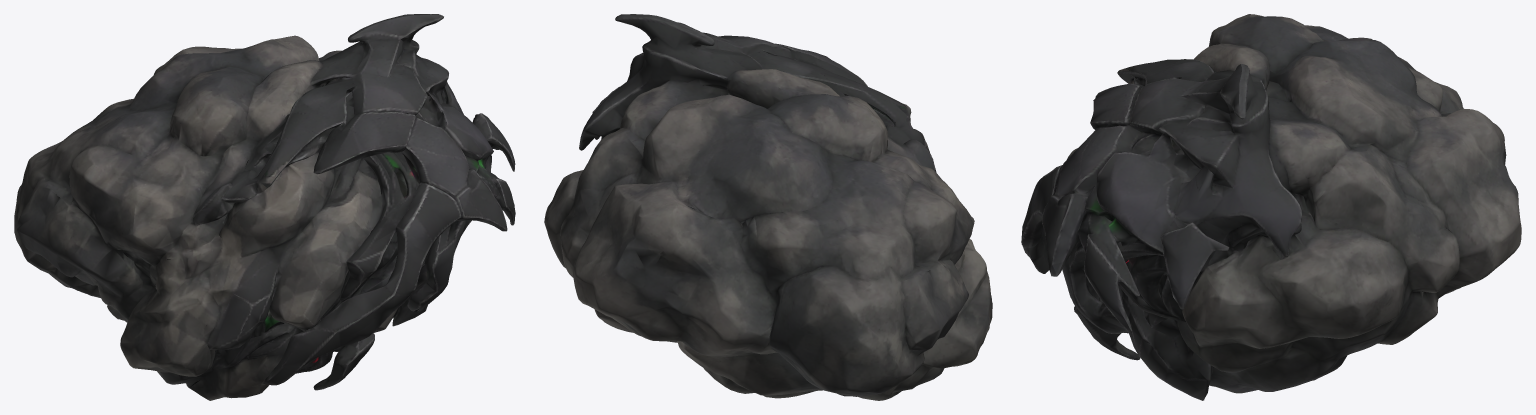
The model's file is 11_husk_claimed_asteroid.fbx.
3 views of the same model, side by side, from view 1: azimuth 30°, elevation 25°; view 2: azimuth 150°, elevation 25°; view 3: azimuth 270°, elevation 25° (orthographic). The views are drawn at different scales.
Parts seen in each view (by area): view 1: 11_husk_claimed_asteroid; view 2: 11_husk_claimed_asteroid; view 3: 11_husk_claimed_asteroid.
Boxes of the visible parts, box(x1,y1,x2,y2) form: 11_husk_claimed_asteroid: box(14, 14, 515, 400); 11_husk_claimed_asteroid: box(544, 14, 992, 400); 11_husk_claimed_asteroid: box(1021, 14, 1521, 400).
Bounding box in the file's own units: 20 × 14.88 × 18.33.
Materials: 1 (1 with a texture image).
